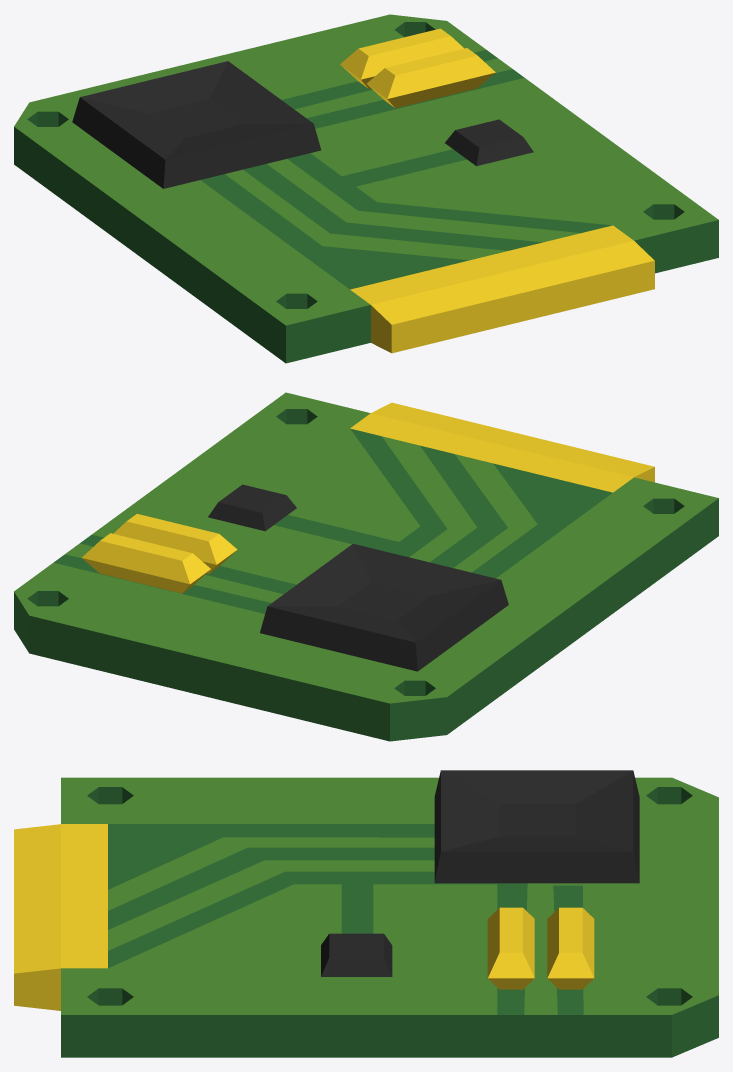
File: resources_printed-circuit.fbx
The picture shows the model from 3 angles, top to bottom: view 1: azimuth 30°, elevation 25°; view 2: azimuth 150°, elevation 25°; view 3: azimuth 270°, elevation 25°; orthographic projection. The views are drawn at different scales.
Parts seen in each view (by area): view 1: resources_printed_circuit; view 2: resources_printed_circuit; view 3: resources_printed_circuit.
Part boxes in pixels (x1,y1,x2,y2): resources_printed_circuit: [14, 14, 718, 363]; resources_printed_circuit: [14, 392, 718, 741]; resources_printed_circuit: [14, 770, 718, 1057].
Bounding box in the file's own units: 159 × 24.88 × 200.
